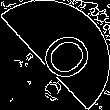O_SW: (20, 22, 90, 88)
